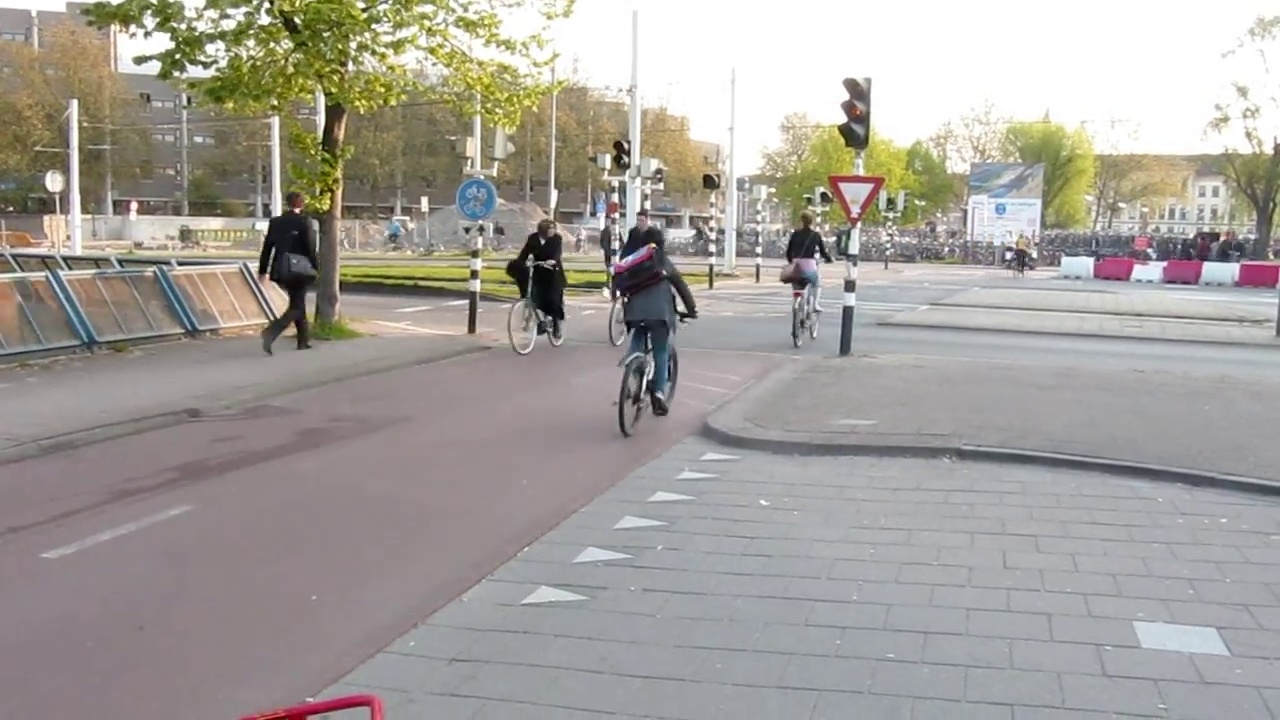cyclist_back: (619, 235, 692, 434), (776, 205, 826, 346)
cyclist_front: (507, 208, 574, 361)
